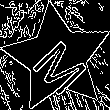M_NE: (23, 24, 92, 92)
